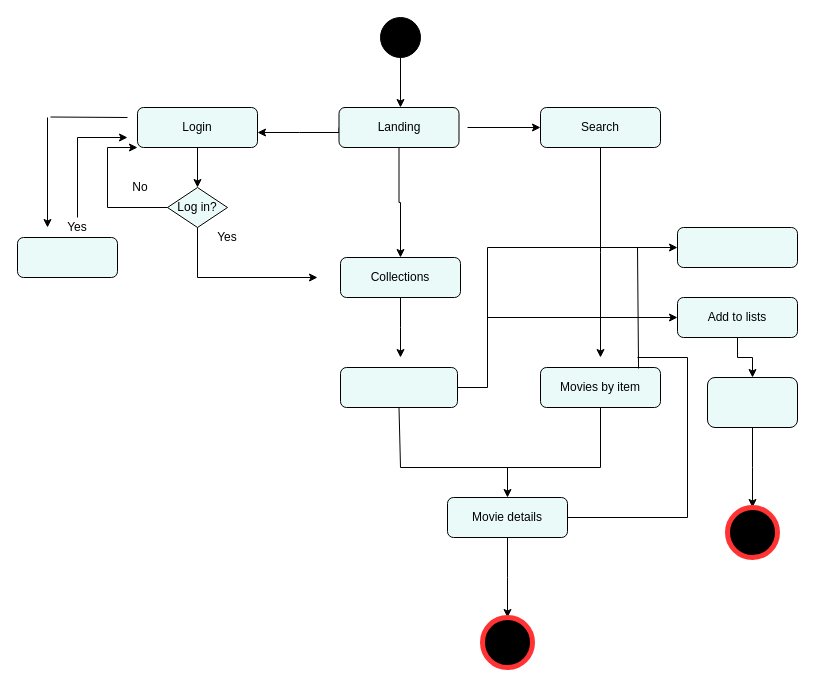
Image size: 815x687. Some labels were removed from this diagram. Each missing label, with the centre of its shape:
Add and remove movies in list: (x=752, y=402)
Add to favorites: (x=737, y=247)
Movies by collection: (x=399, y=387)
Register: (x=67, y=257)
